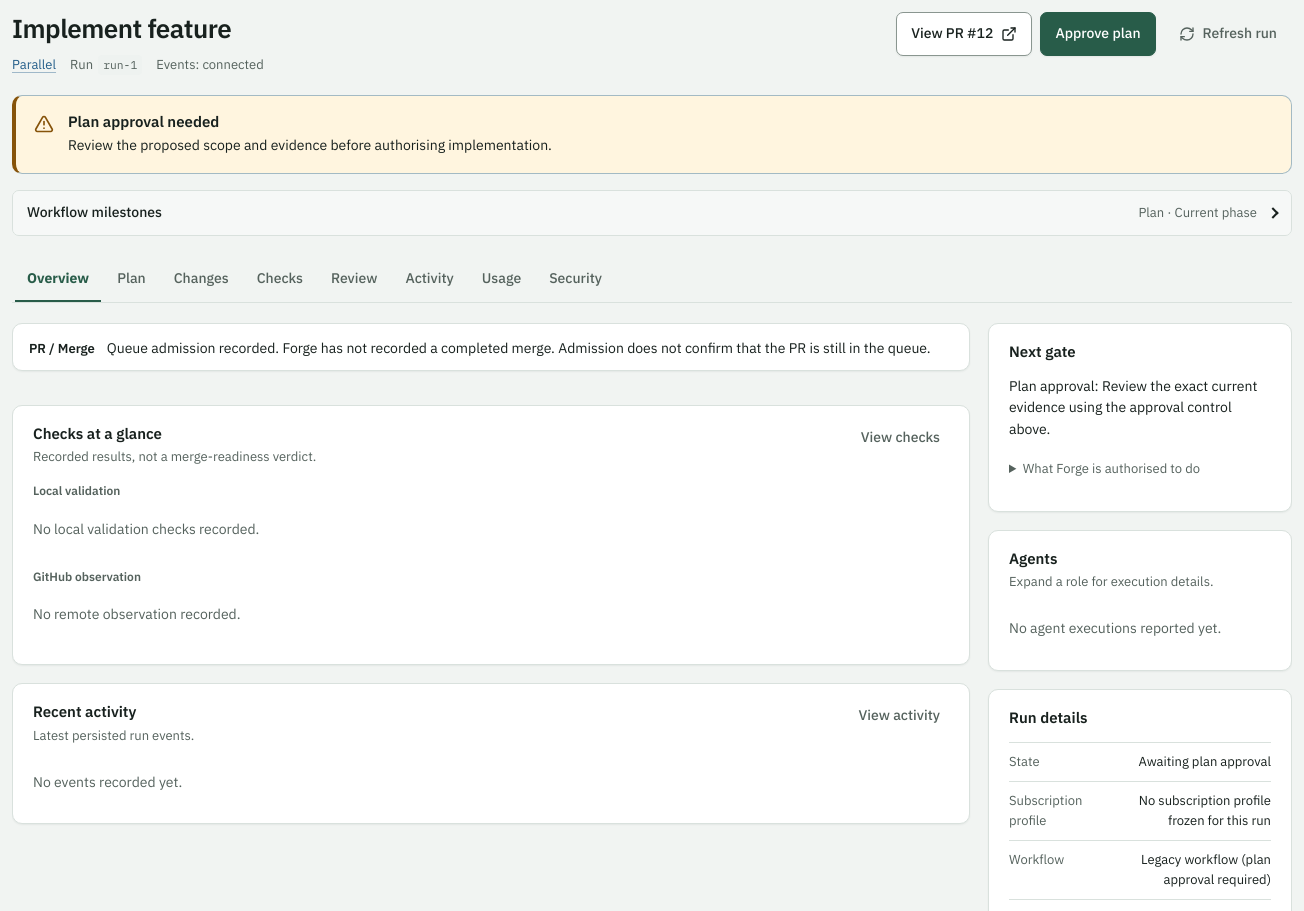
Scenario: the PR outcome panel lives on the overview instead of stacking above every section
The image size is (1304, 911).
Expected: the element "PR / Merge" is shown, [12,323,970,371]
Step 1. Click the button "Checks" → (280,280), box [245,258,315,302]
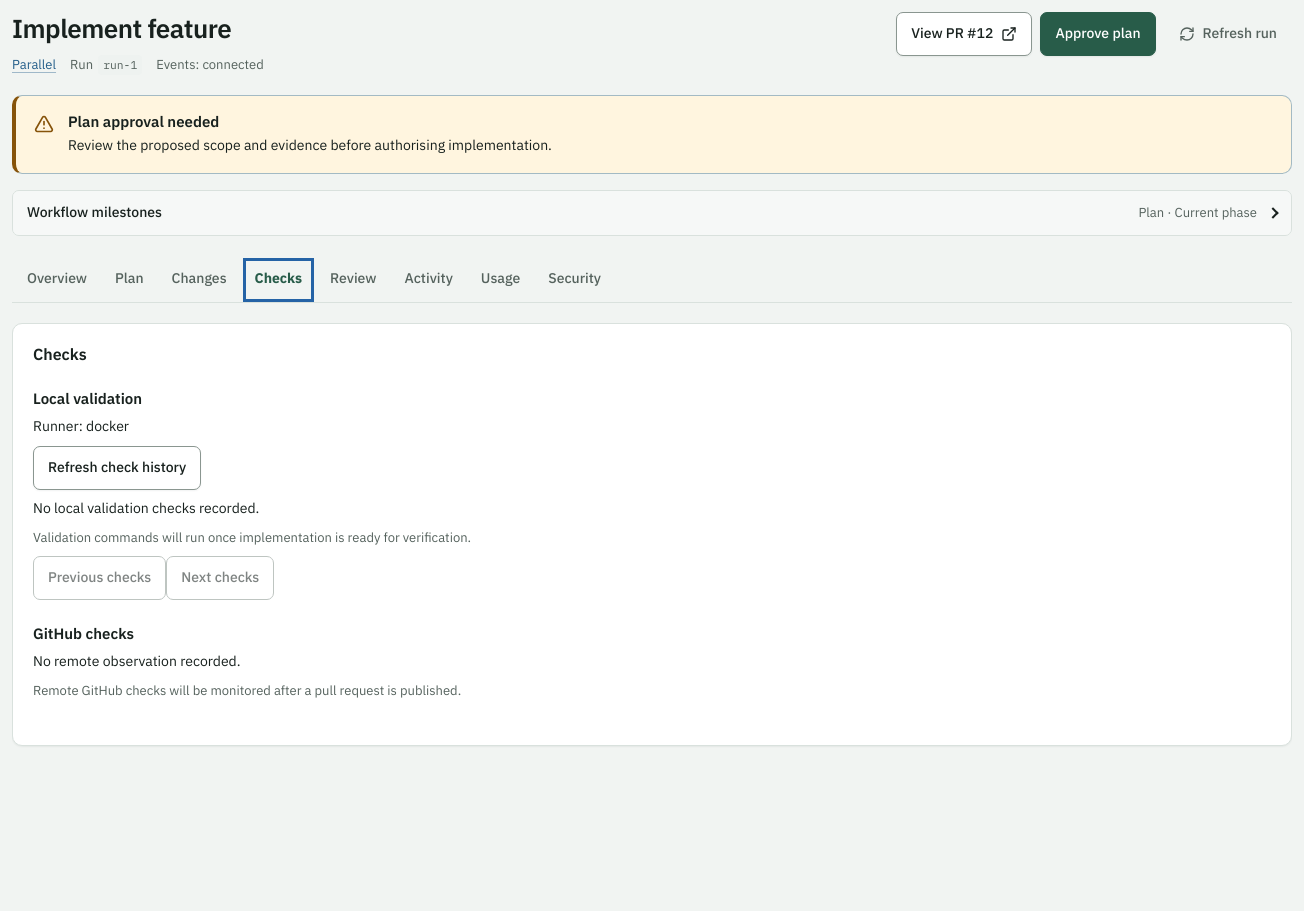
Expected: the heading "PR / Merge" is gone
Step 2. Click the button "Overview" → (57,280), box [15,258,99,302]
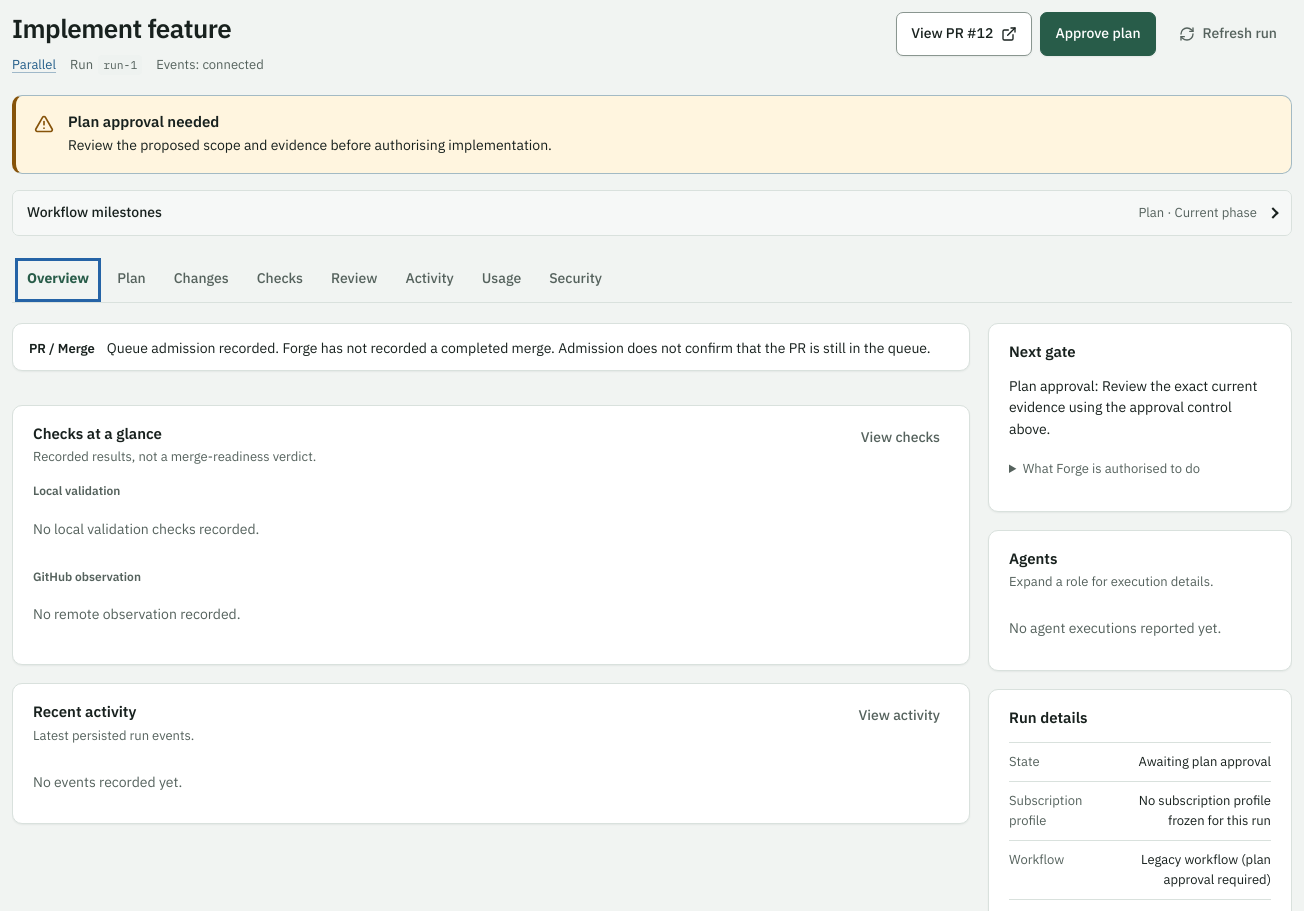
Expected: the element "PR / Merge" is shown, [12,323,970,371]
